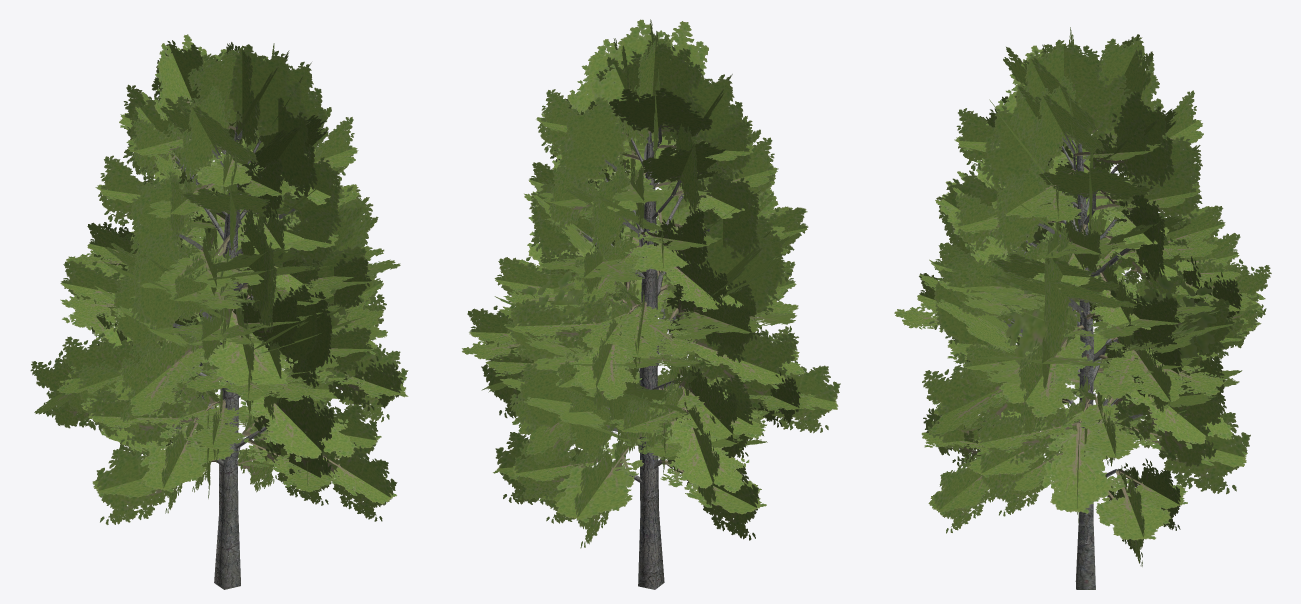
File: LiquidambarStyraciflua.glb
The picture shows the model from 3 angles, left to right: view 1: azimuth 30°, elevation 25°; view 2: azimuth 150°, elevation 25°; view 3: azimuth 270°, elevation 25°; orthographic projection.
Visible parts, largest first — view 1: Sweetgum__Realistic_LOD3; view 2: Sweetgum__Realistic_LOD3; view 3: Sweetgum__Realistic_LOD3.
Part boxes in pixels (box(x1,y1,x2,y2)): Sweetgum__Realistic_LOD3: box(30, 34, 408, 589); Sweetgum__Realistic_LOD3: box(462, 19, 840, 589); Sweetgum__Realistic_LOD3: box(894, 27, 1271, 589).
Bounding box in the file's own units: 9.97 × 15.12 × 9.88.
1 material, 1 textured.
